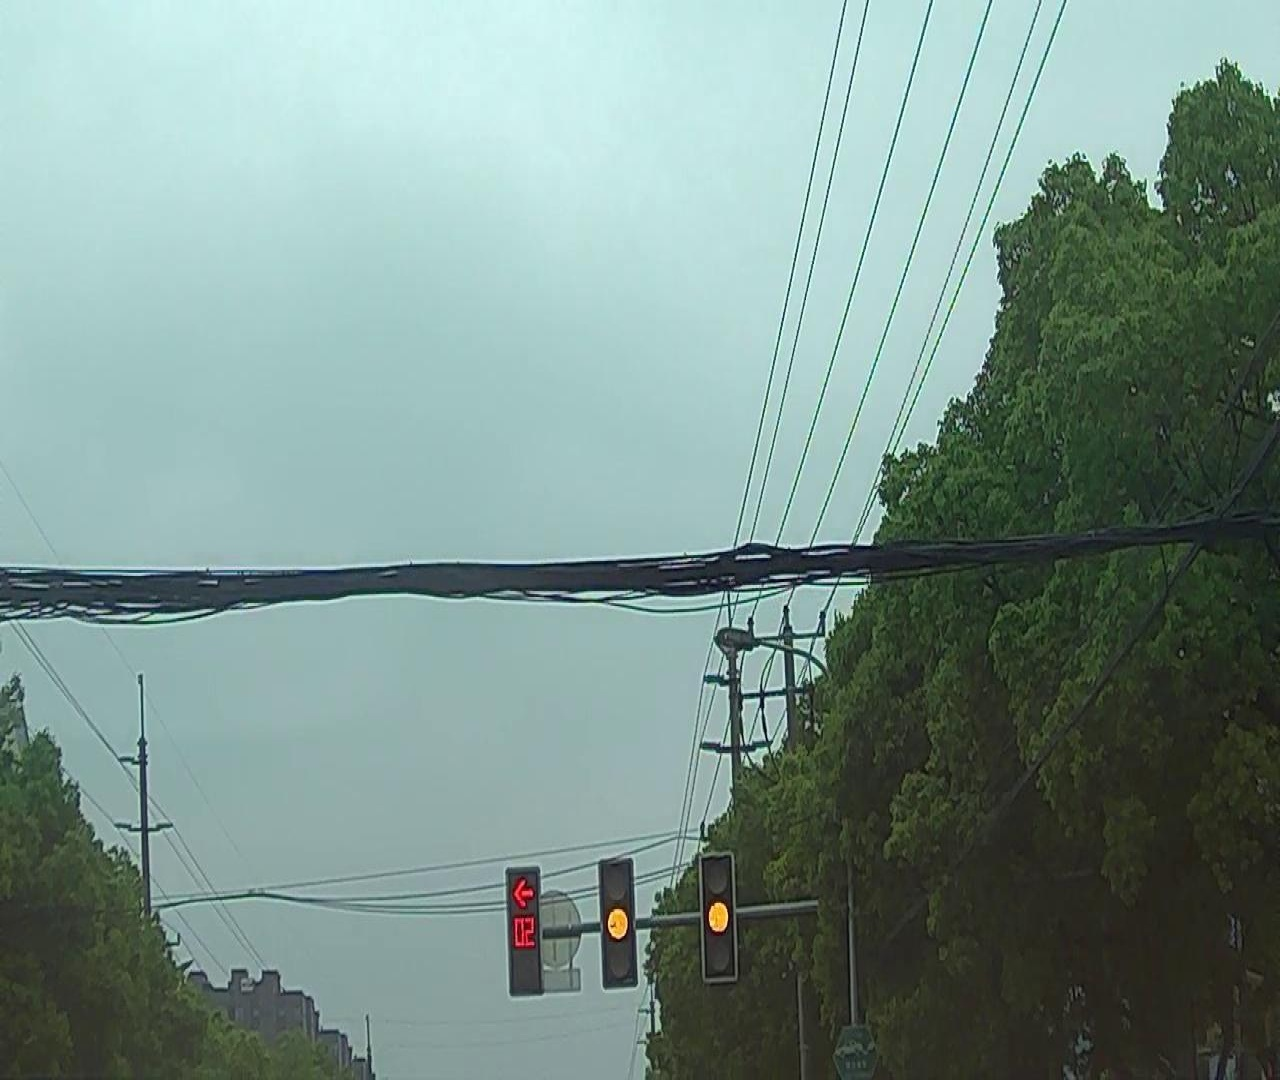red: (508, 865, 542, 996)
yellow: (600, 858, 638, 985), (701, 853, 737, 979)
